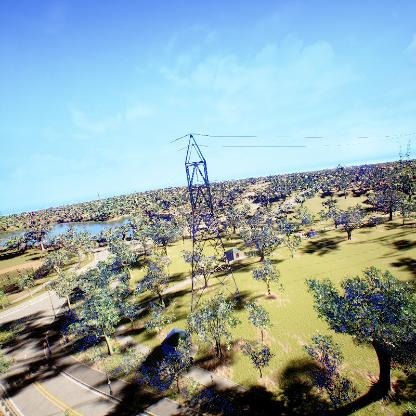tower: (166, 131, 251, 321)
